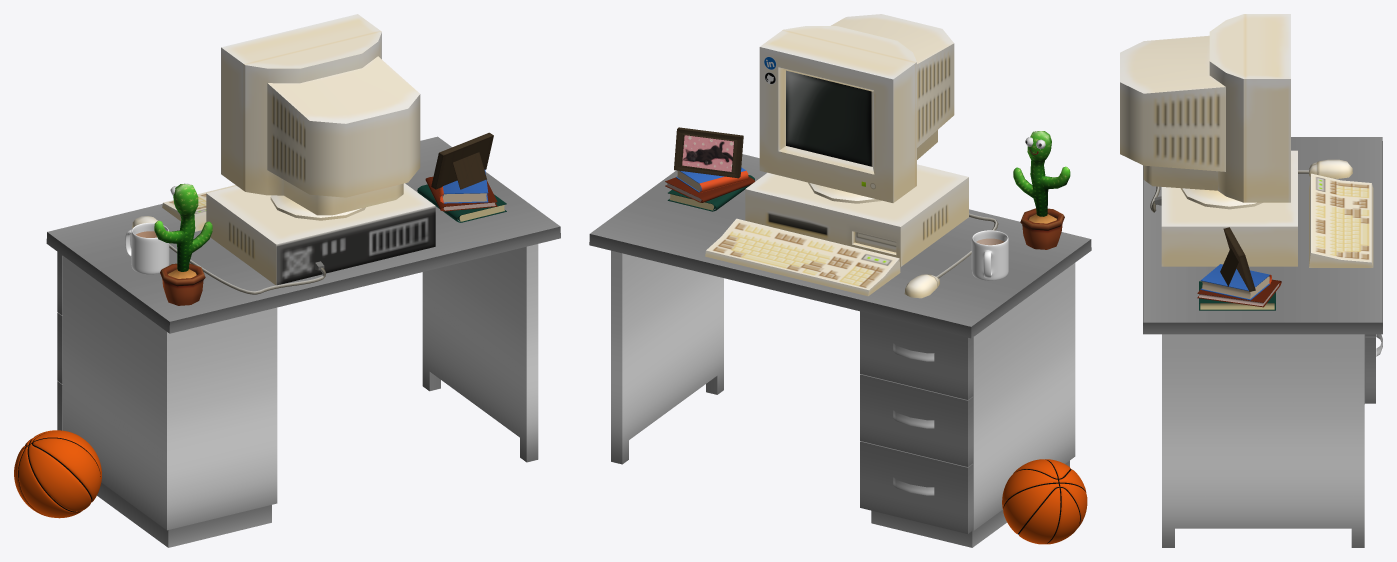
File: desk.glb
The picture shows the model from 3 angles, left to right: view 1: azimuth 30°, elevation 25°; view 2: azimuth 150°, elevation 25°; view 3: azimuth 270°, elevation 25°; orthographic projection. The views are drawn at different scales.
Parts seen in each view (by area): view 1: Table, Computer, Case, Basketball_0, Cactus, Cube, Plane_0, Rectangle002_09 - Default_0, Mouse, Keyboard; view 2: Table, Computer, Case, Keyboard, drawer, drawer2, drawer3, Basketball_0, Cactus, Plane_0, Cube, Rectangle002_09 - Default_0 (+1 smaller); view 3: Table, Computer, Case, Keyboard, Cube, Plane_0, Mouse, drawer.
Part boxes in pixels (x1,y1,x2,y2): Table: (46,136,560,547); Computer: (221,14,420,220); Case: (206,183,435,285); Basketball_0: (14,430,101,518); Cactus: (154,183,212,305); Cube: (417,169,506,222); Plane_0: (431,132,493,189); Rectangle002_09 - Default_0: (125,223,169,274); Mouse: (132,216,325,294); Keyboard: (162,185,236,231); Table: (589,154,1091,547); Computer: (759,14,954,203); Case: (745,164,968,266); Keyboard: (705,218,900,296); drawer: (860,441,973,533); drawer2: (860,374,973,466); drawer3: (860,311,973,399); Basketball_0: (1002,459,1087,544); Cactus: (1013,131,1070,249); Plane_0: (674,127,743,178); Cube: (665,167,754,211); Rectangle002_09 - Default_0: (971,230,1008,280); Table: (1143,137,1382,547); Computer: (1120,14,1290,209); Case: (1161,150,1297,266); Keyboard: (1309,173,1373,267); Cube: (1197,264,1281,310); Plane_0: (1220,227,1255,291); Mouse: (1150,159,1352,212); drawer: (1365,334,1382,403).
Bounding box in the file's own units: 2.06 × 1.84 × 1.04.
Materials: 18 (7 with a texture image).
